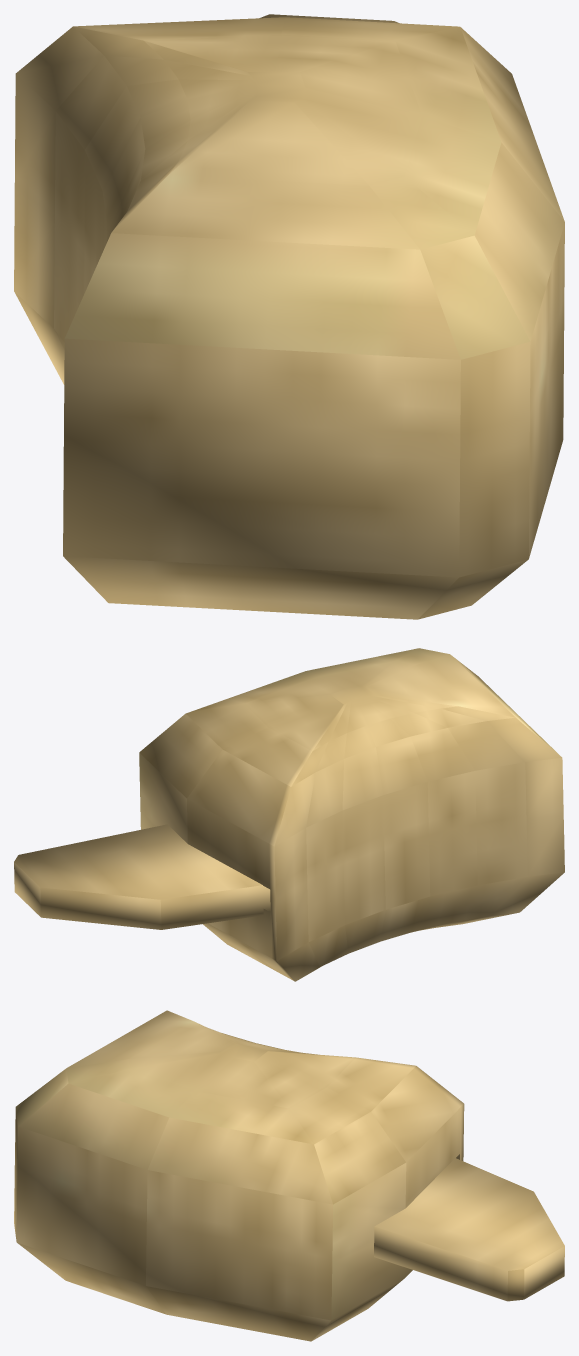
Rendered from strangeRock1.fbx.
3 renders of one model, top to bottom at view 1: azimuth 30°, elevation 25°; view 2: azimuth 150°, elevation 25°; view 3: azimuth 270°, elevation 25°, orthographic. The views are drawn at different scales.
Parts seen in each view (by area): view 1: polySurface12; view 2: polySurface12; view 3: polySurface12.
Boxes of the visible parts, x1,y1,x2,y2 form: polySurface12: (14,14,564,619); polySurface12: (14,648,564,981); polySurface12: (14,1010,564,1341).
Size of the model in its own units: 6.7 by 4.21 by 8.55.
1 material, 1 textured.
